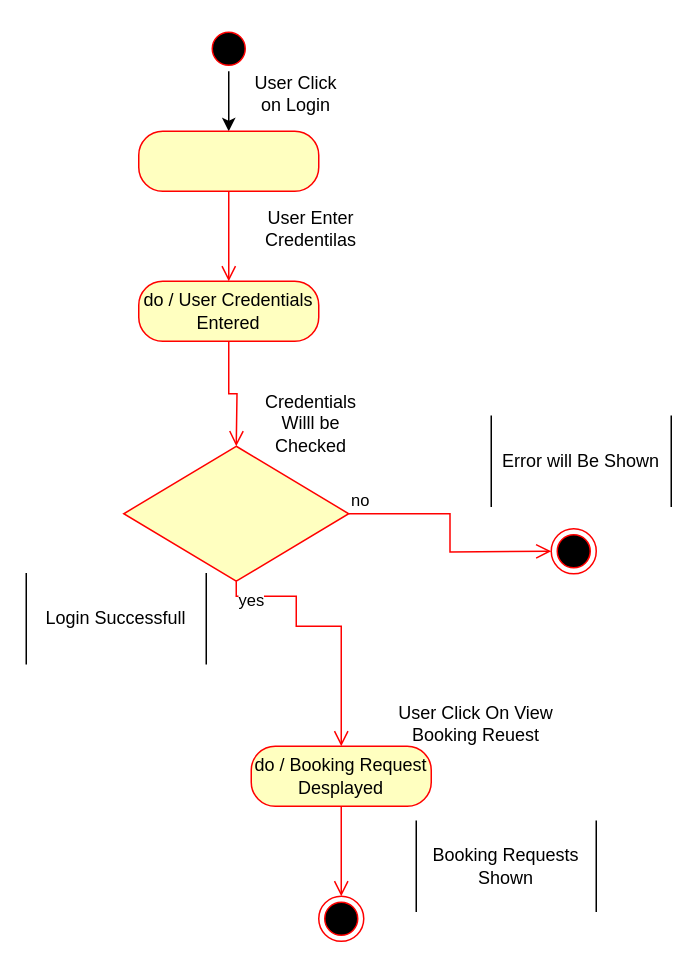
Image size: 698x968. Some labels were removed from this diagram. Here are the shapes that lost their labels. From the top down, the centre of each, then its label:
point 228,160: do / Login Page Shown
point 235,513: do / Credentials Checked By the System
